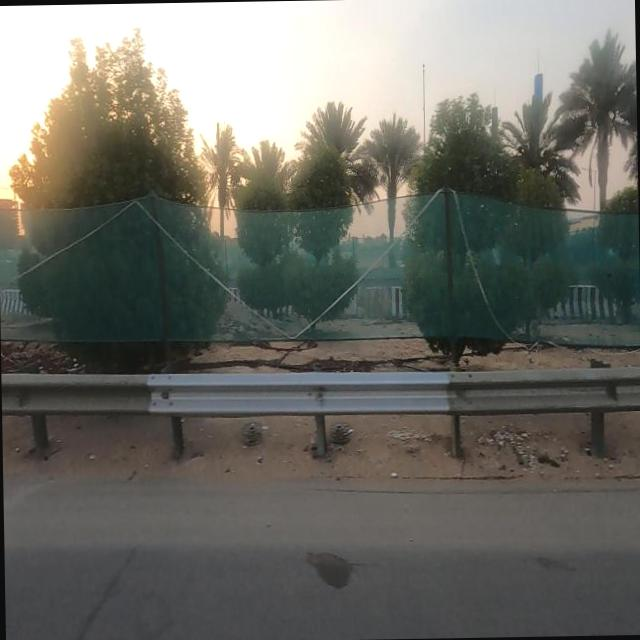debris: (490, 399, 602, 508), (461, 392, 536, 486), (382, 402, 456, 482), (366, 439, 419, 518)
